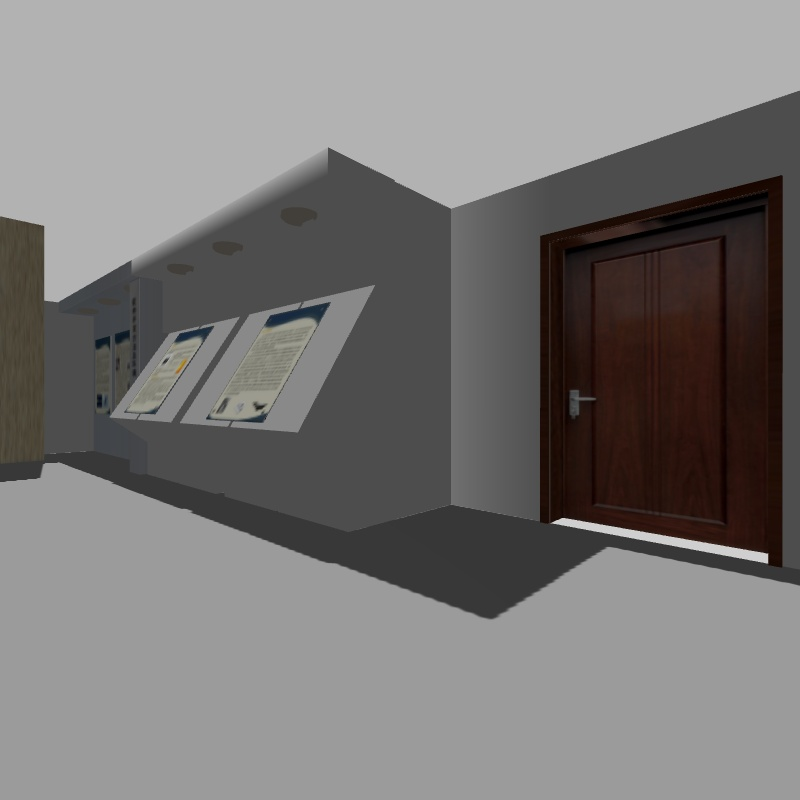handle: (561, 384, 603, 424)
